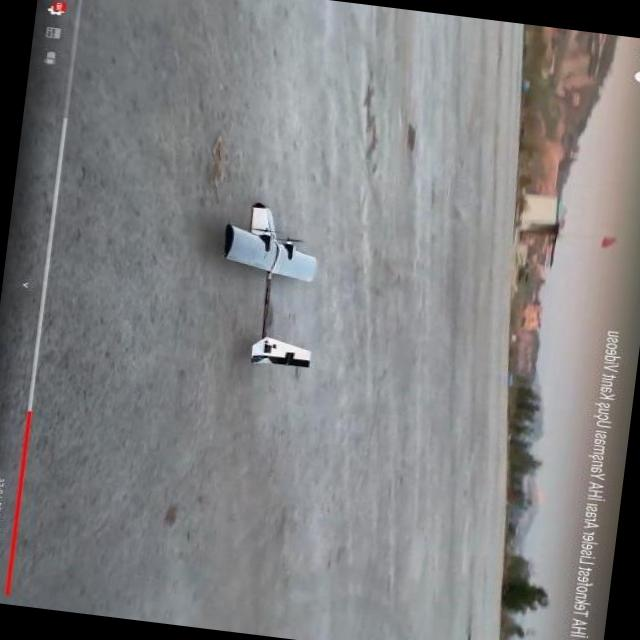UAV: (220, 194, 374, 363)
